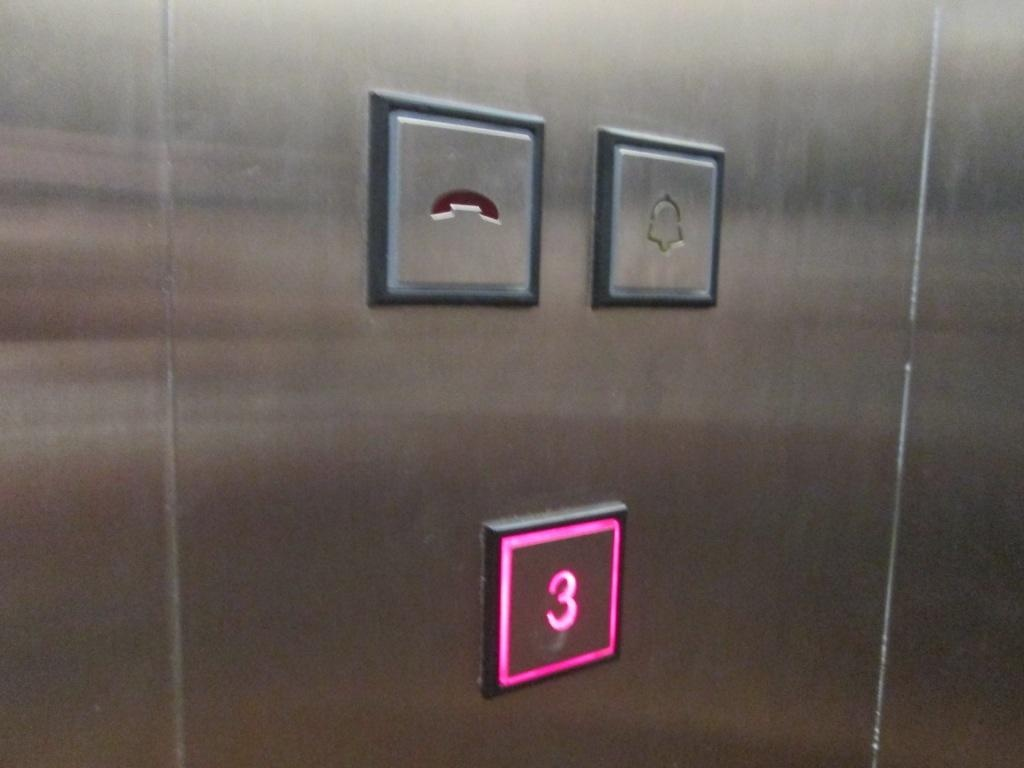3: (467, 498, 639, 700)
alarm: (583, 112, 732, 319)
call: (361, 76, 551, 318)
